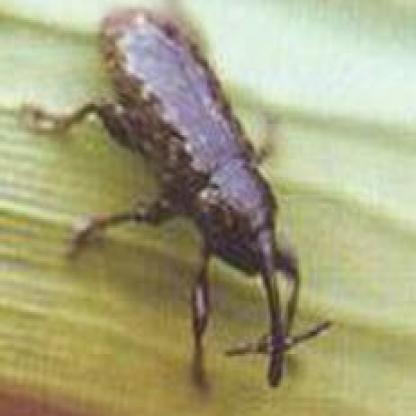rice-bug: (95, 7, 292, 389)
